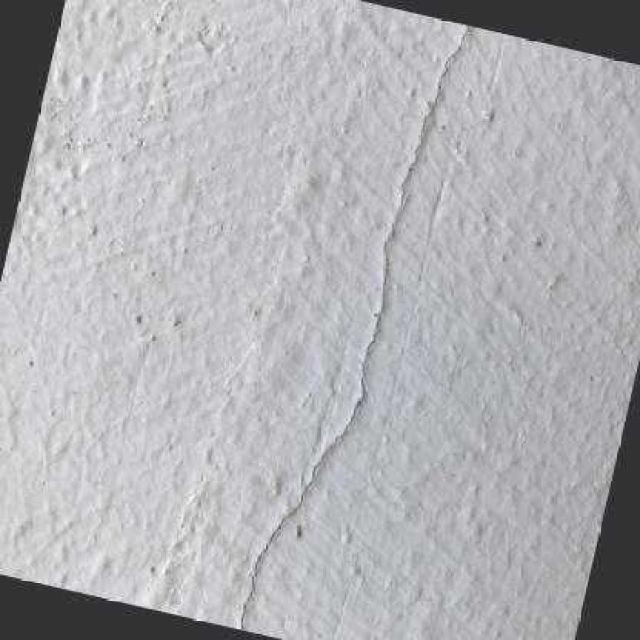D00: (241, 26, 469, 631)
